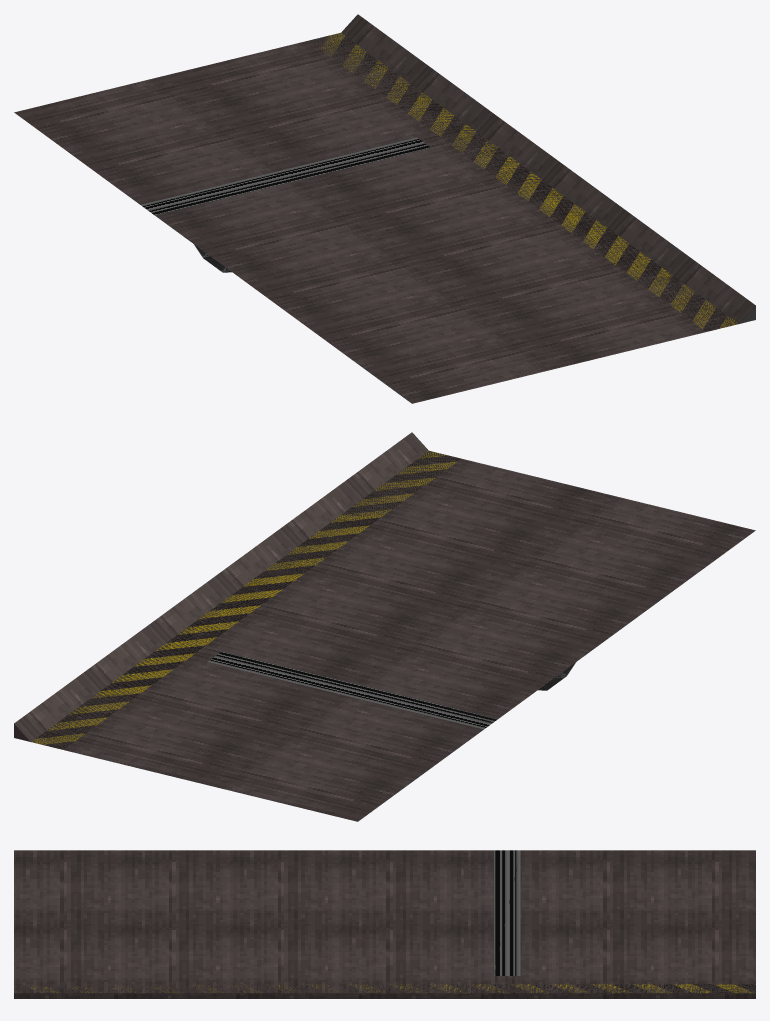
Rendered from primary_192.glb.
3 renders of one model, top to bottom at view 1: azimuth 30°, elevation 25°; view 2: azimuth 150°, elevation 25°; view 3: azimuth 270°, elevation 25°, orthographic. The views are drawn at different scales.
Parts seen in each view (by area): view 1: Object; view 2: Object; view 3: Object.
Part boxes in pixels (<box>): Object: <box>14,14,755,403</box>; Object: <box>14,432,755,821</box>; Object: <box>14,850,755,998</box>.
Bounding box in the file's own units: 4.74 × 0.2872 × 9.5.
8 materials, 8 textured.
